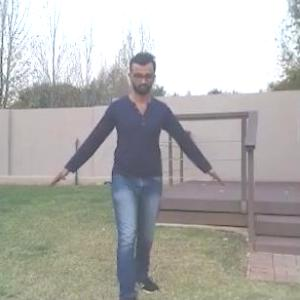land: (47, 52, 211, 295)
